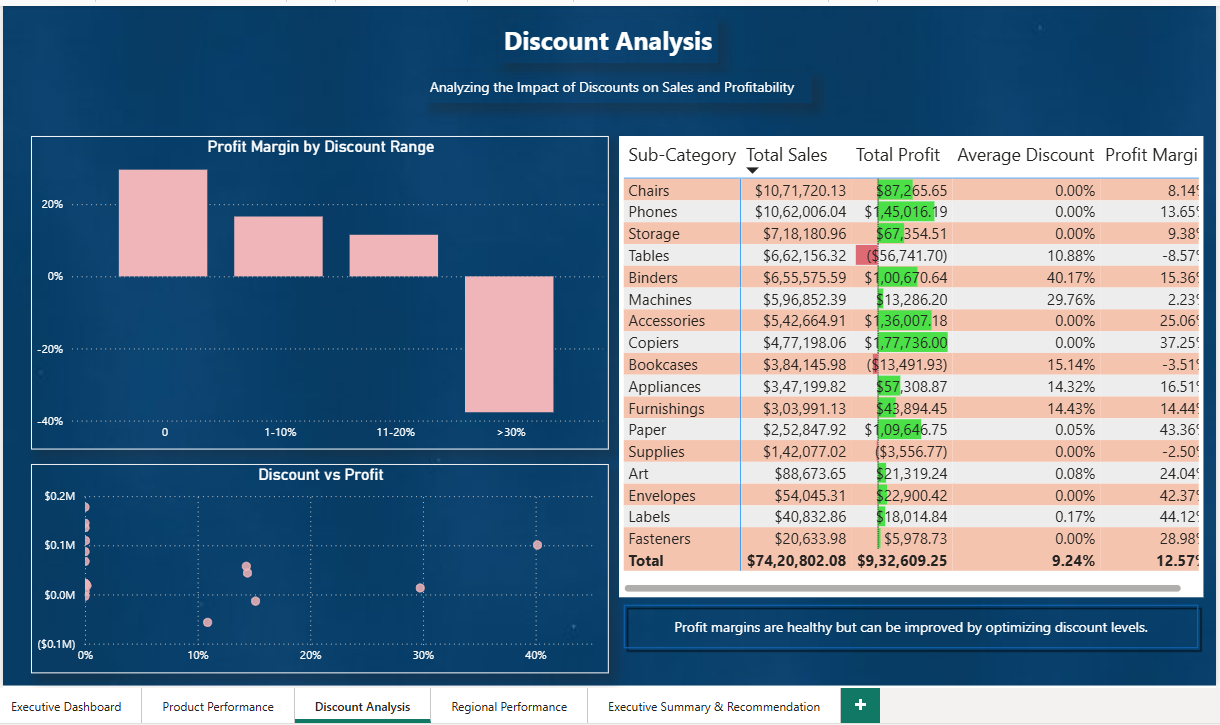

The page's visual inventory and layout, read from the dashboard file:
{"tool":"powerbi","page":{"name":"Discount Analysis","canvas":[1280,720],"ordinal":2},"visuals":[{"type":"textbox","box":[524.1,12.5,231.3,46.7],"z":0},{"type":"textbox","box":[445.4,69.5,409,33],"z":1000},{"type":"scatterChart","title":"Discount vs Profit","fields":{"X":["Orders.Average Discount"],"Y":["Orders.Total Profit"],"Category":["Orders.Sub-Category"]},"box":[29.6,483.5,610.2,220.6],"z":2000},{"type":"clusteredColumnChart","title":"Profit Margin by Discount Range","fields":{"Category":["Orders.Discount Group"],"Y":["Orders.Profit Margin"]},"box":[29.6,137.4,610.4,331.5],"z":3000},{"type":"pivotTable","fields":{"Rows":["Orders.Sub-Category"],"Values":["Orders.Total Sales","Orders.Total Profit","Orders.Average Discount","Orders.Profit Margin"]},"box":[650.1,137.6,616.5,486.7],"z":4000},{"type":"shape","box":[650.1,626.6,616.5,55.9],"z":5000}]}

Visuals, with their boxes on the page's 1280x720 design canvas (x1, y1, x2, y2). These are canvas units, not pixel positions in the 1220x725 screenshot, which may show the page scaled, cropped or inside an application window:
textbox: <region>524, 12, 755, 59</region>
textbox: <region>445, 70, 854, 102</region>
"Discount vs Profit" scatterChart: <region>30, 484, 640, 704</region>
"Profit Margin by Discount Range" clusteredColumnChart: <region>30, 137, 640, 469</region>
pivotTable - Orders.Sub-Category x Orders.Total Sales: <region>650, 138, 1267, 624</region>
shape: <region>650, 627, 1267, 682</region>
